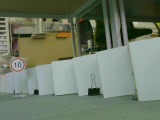speed_10: (9, 55, 25, 73)
